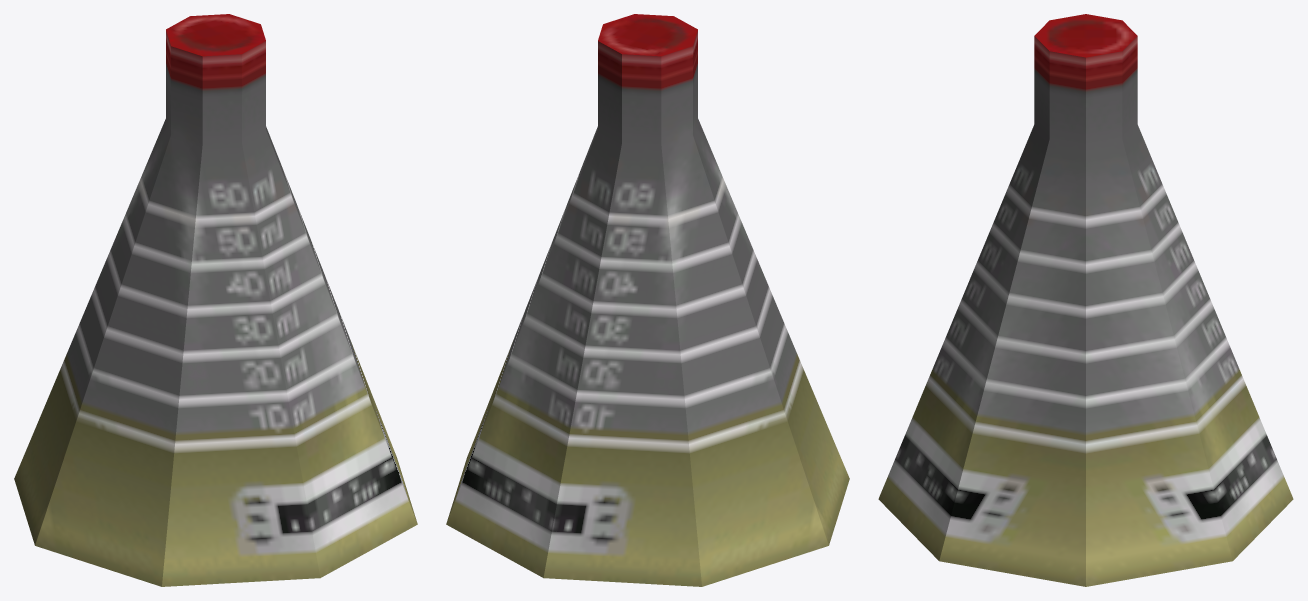
Rendered from beaker.fbx.
3 views of the same model, side by side, from view 1: azimuth 30°, elevation 25°; view 2: azimuth 150°, elevation 25°; view 3: azimuth 270°, elevation 25° (orthographic).
Parts seen in each view (by area): view 1: mesh_0; view 2: mesh_0; view 3: mesh_0.
Boxes of the visible parts, <box> form: mesh_0: <box>14,14,417,586</box>; mesh_0: <box>446,14,849,586</box>; mesh_0: <box>878,14,1293,586</box>.
Bounding box in the file's own units: 20.26 × 24.95 × 20.26.
Materials: 1 (1 with a texture image).
